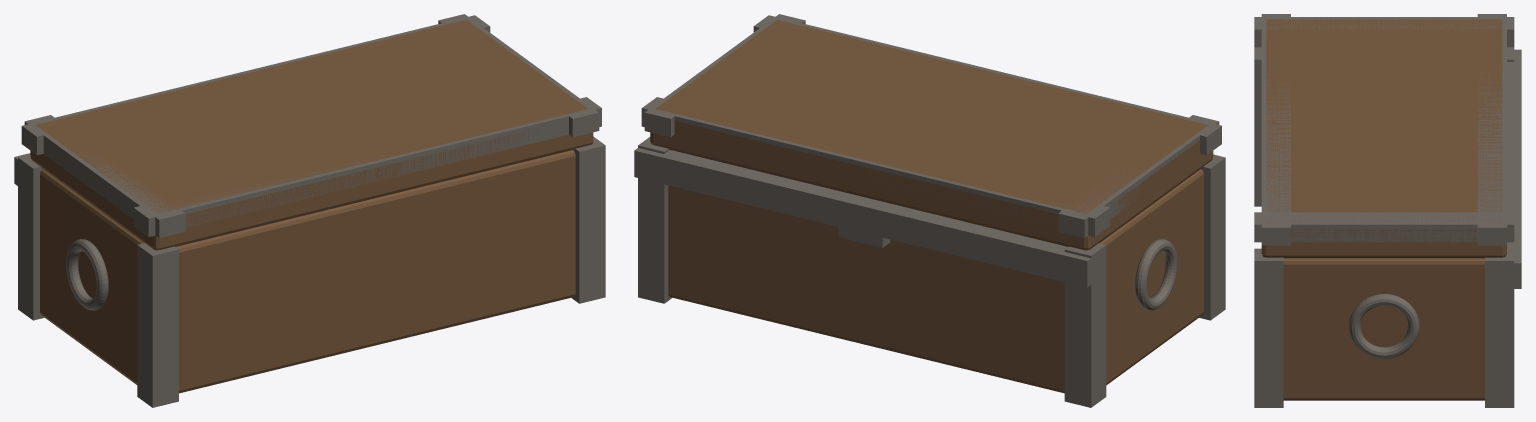
The model's file is 05_chest_wood_stratum1_01.glb.
The picture shows the model from 3 angles, left to right: view 1: azimuth 30°, elevation 25°; view 2: azimuth 150°, elevation 25°; view 3: azimuth 270°, elevation 25°; orthographic projection. The views are drawn at different scales.
Visible parts, largest first — view 1: chest_wood_stratum1_01_lid_panel, chest_wood_stratum1_01_body_wall_back, chest_wood_stratum1_01_body_wall_left, chest_wood_stratum1_01_lid_strap_back, chest_wood_stratum1_01_body_corner_strap_lb, chest_wood_stratum1_01_body_corner_strap_rb, chest_wood_stratum1_01_lid_corner_l, chest_wood_stratum1_01_body_corner_strap_lf, chest_wood_stratum1_01_body_bottom, chest_wood_stratum1_01_lid_strap_front, chest_wood_stratum1_01_ring_handle_l, chest_wood_stratum1_01_lid_corner_r; view 2: chest_wood_stratum1_01_lid_panel, chest_wood_stratum1_01_body_wall_front, chest_wood_stratum1_01_body_band_top, chest_wood_stratum1_01_body_wall_left, chest_wood_stratum1_01_body_corner_strap_lf, chest_wood_stratum1_01_lid_strap_front, chest_wood_stratum1_01_body_corner_strap_rf, chest_wood_stratum1_01_body_corner_strap_lb, chest_wood_stratum1_01_body_bottom, chest_wood_stratum1_01_lid_corner_l, chest_wood_stratum1_01_lid_strap_back, chest_wood_stratum1_01_ring_handle_l (+2 smaller); view 3: chest_wood_stratum1_01_lid_panel, chest_wood_stratum1_01_body_wall_right, chest_wood_stratum1_01_lid_corner_r, chest_wood_stratum1_01_lid_strap_back, chest_wood_stratum1_01_lid_strap_front, chest_wood_stratum1_01_body_corner_strap_rb, chest_wood_stratum1_01_body_corner_strap_rf, chest_wood_stratum1_01_body_band_top, chest_wood_stratum1_01_lid_corner_l, chest_wood_stratum1_01_ring_handle_r, chest_wood_stratum1_01_body_bottom, chest_wood_stratum1_01_body_corner_strap_lb.
Part boxes in pixels (x1,y1,x2,y2): chest_wood_stratum1_01_lid_panel: (30, 19, 593, 250); chest_wood_stratum1_01_body_wall_back: (176, 150, 575, 389); chest_wood_stratum1_01_body_wall_left: (40, 169, 143, 384); chest_wood_stratum1_01_lid_strap_back: (133, 97, 601, 236); chest_wood_stratum1_01_body_corner_strap_lb: (137, 243, 178, 407); chest_wood_stratum1_01_body_corner_strap_rb: (571, 136, 605, 303); chest_wood_stratum1_01_lid_corner_l: (24, 115, 185, 238); chest_wood_stratum1_01_body_corner_strap_lf: (18, 154, 44, 320); chest_wood_stratum1_01_body_bottom: (117, 289, 575, 393); chest_wood_stratum1_01_lid_strap_front: (21, 15, 490, 155); chest_wood_stratum1_01_ring_handle_l: (66, 239, 108, 310); chest_wood_stratum1_01_lid_corner_r: (438, 14, 599, 137); chest_wood_stratum1_01_lid_panel: (650, 19, 1213, 250); chest_wood_stratum1_01_body_wall_front: (668, 185, 1064, 391); chest_wood_stratum1_01_body_band_top: (634, 148, 1102, 287); chest_wood_stratum1_01_body_wall_left: (1100, 169, 1203, 384); chest_wood_stratum1_01_body_corner_strap_lf: (1064, 243, 1106, 407); chest_wood_stratum1_01_lid_strap_front: (641, 97, 1110, 236); chest_wood_stratum1_01_body_corner_strap_rf: (638, 137, 672, 303); chest_wood_stratum1_01_body_corner_strap_lb: (1199, 154, 1225, 320); chest_wood_stratum1_01_body_bottom: (668, 289, 1203, 393); chest_wood_stratum1_01_lid_corner_l: (1058, 115, 1219, 238); chest_wood_stratum1_01_lid_strap_back: (753, 15, 1221, 155); chest_wood_stratum1_01_ring_handle_l: (1135, 239, 1177, 310); chest_wood_stratum1_01_lid_panel: (1261, 19, 1506, 258); chest_wood_stratum1_01_body_wall_right: (1283, 258, 1484, 400); chest_wood_stratum1_01_lid_corner_r: (1254, 212, 1514, 242); chest_wood_stratum1_01_lid_strap_back: (1261, 14, 1290, 245); chest_wood_stratum1_01_lid_strap_front: (1477, 14, 1506, 245); chest_wood_stratum1_01_body_corner_strap_rb: (1254, 248, 1283, 407); chest_wood_stratum1_01_body_corner_strap_rf: (1485, 248, 1514, 407); chest_wood_stratum1_01_body_band_top: (1492, 49, 1521, 288); chest_wood_stratum1_01_lid_corner_l: (1254, 17, 1514, 47); chest_wood_stratum1_01_ring_handle_r: (1349, 294, 1419, 358); chest_wood_stratum1_01_body_bottom: (1283, 393, 1484, 400); chest_wood_stratum1_01_body_corner_strap_lb: (1254, 47, 1261, 206).
Size of the model in its own units: 1.04 by 0.405 by 0.545.
